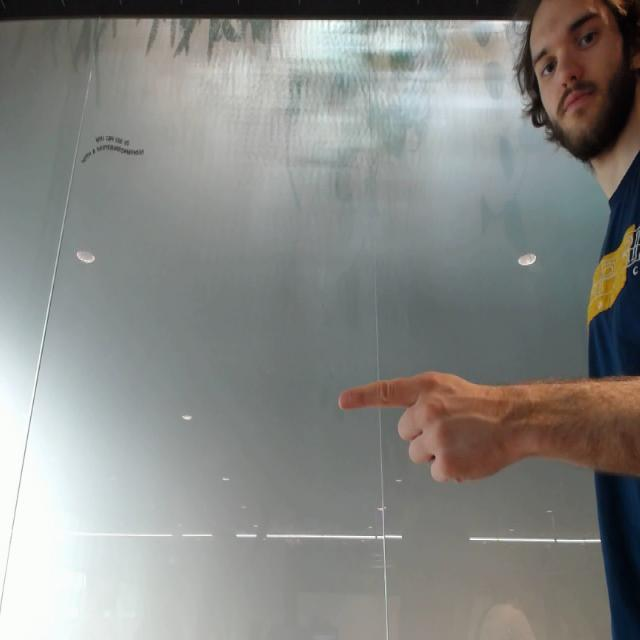left: (335, 364, 525, 491)
